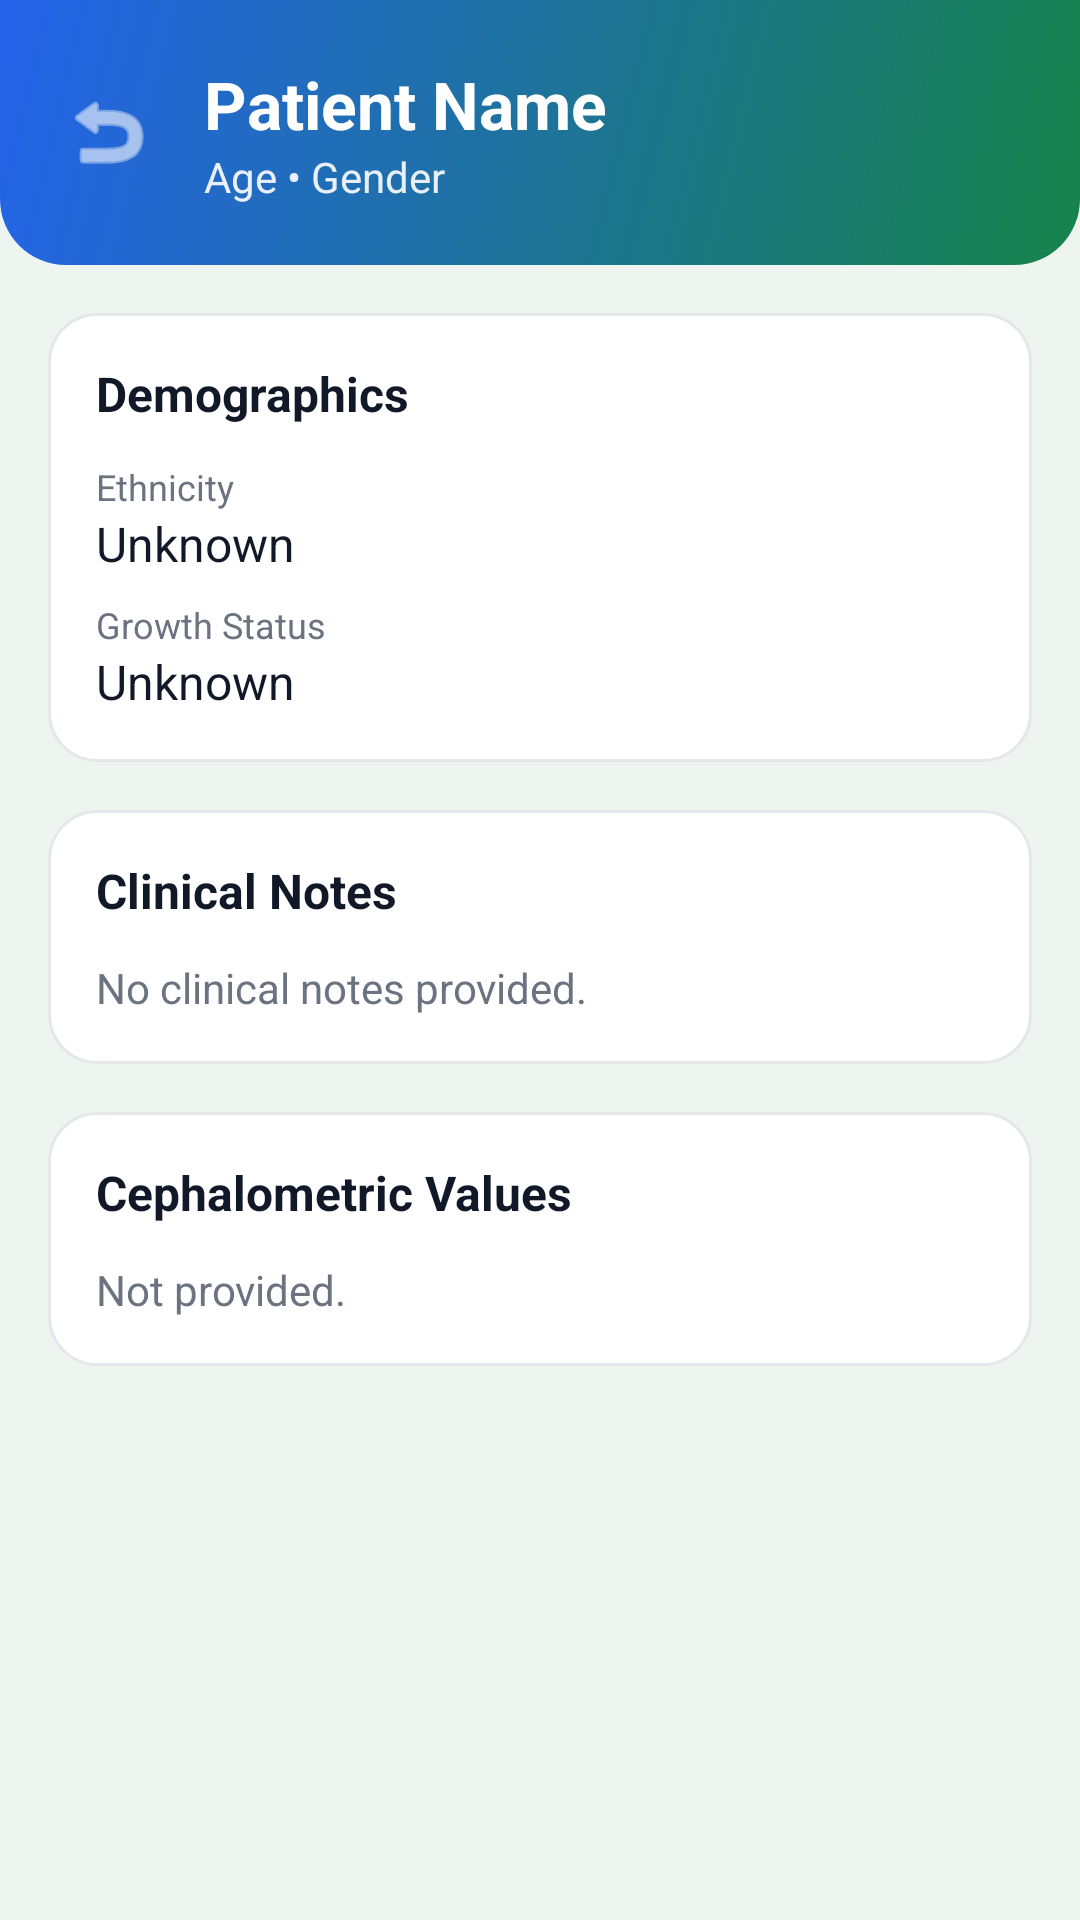

Named icons in this screenshot (1080px x 1920px) and their bounding boxes, (x1, y1, x2, y2):
revert: (75, 101, 144, 164)
